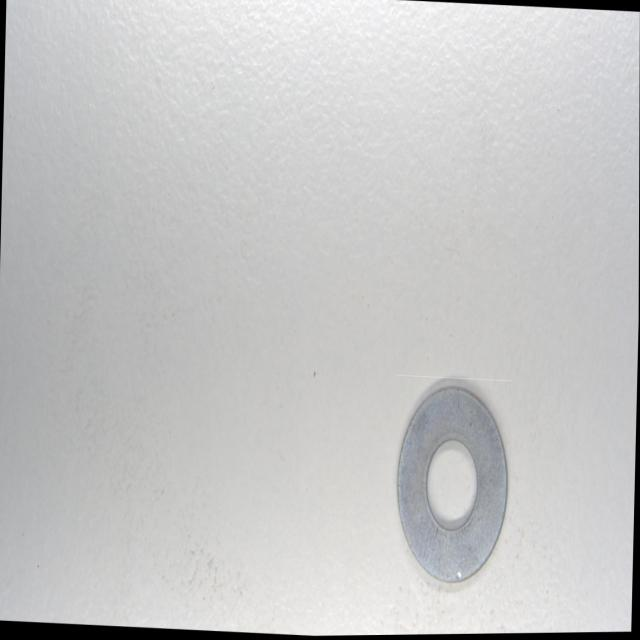washer: (394, 379, 510, 590)
